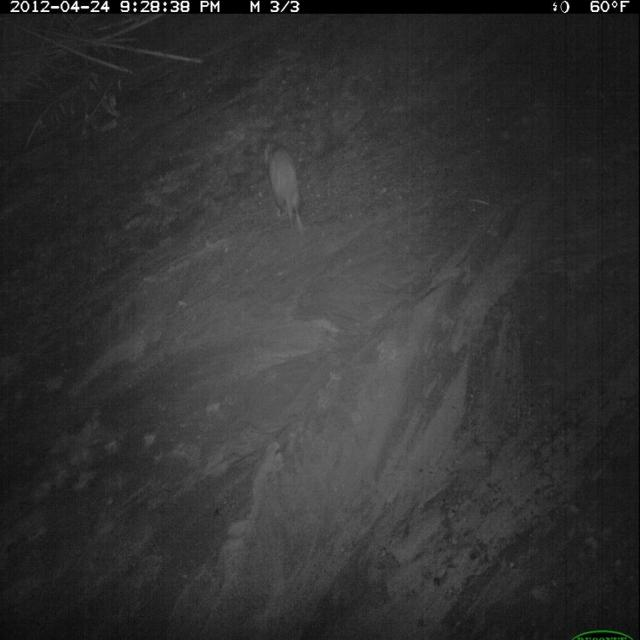opossum: (261, 138, 312, 237)
